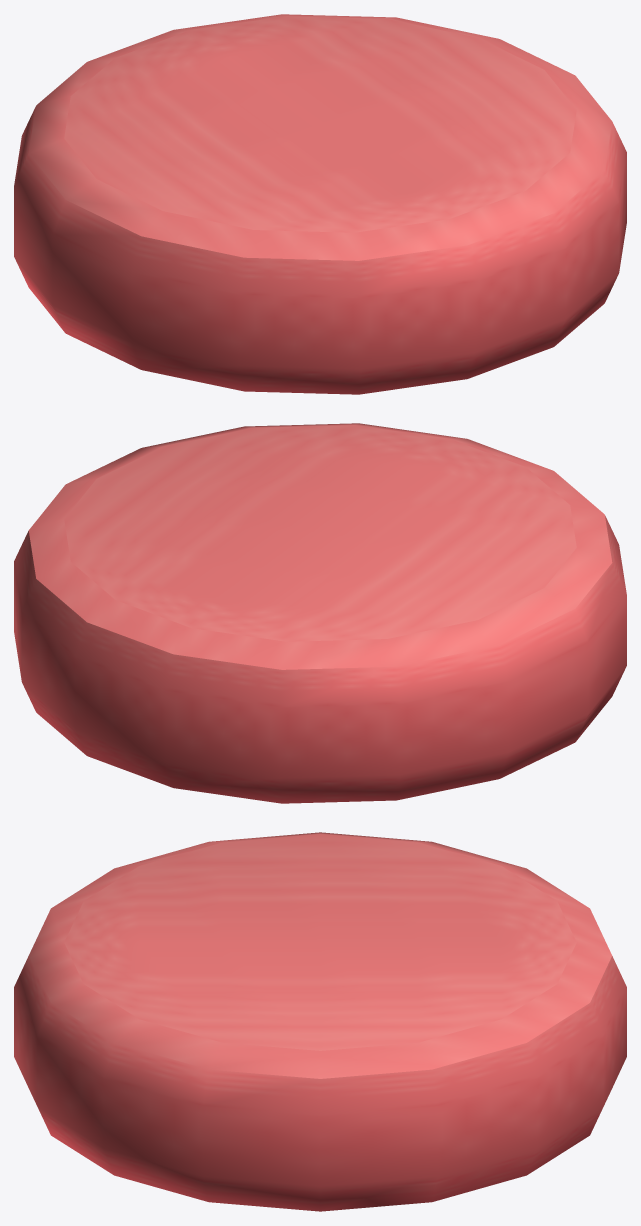
The model's file is food_ingredient_burger_uncooked.gltf.
3 renders of one model, top to bottom at view 1: azimuth 30°, elevation 25°; view 2: azimuth 150°, elevation 25°; view 3: azimuth 270°, elevation 25°, orthographic.
Parts seen in each view (by area): view 1: food_ingredient_burger_uncooked; view 2: food_ingredient_burger_uncooked; view 3: food_ingredient_burger_uncooked.
Boxes of the visible parts, <box> form: food_ingredient_burger_uncooked: <box>14,14,626,394</box>; food_ingredient_burger_uncooked: <box>14,423,626,803</box>; food_ingredient_burger_uncooked: <box>14,832,626,1211</box>.
Bounding box in the file's own units: 0.7 × 0.2 × 0.7.
Materials: 1 (1 with a texture image).
